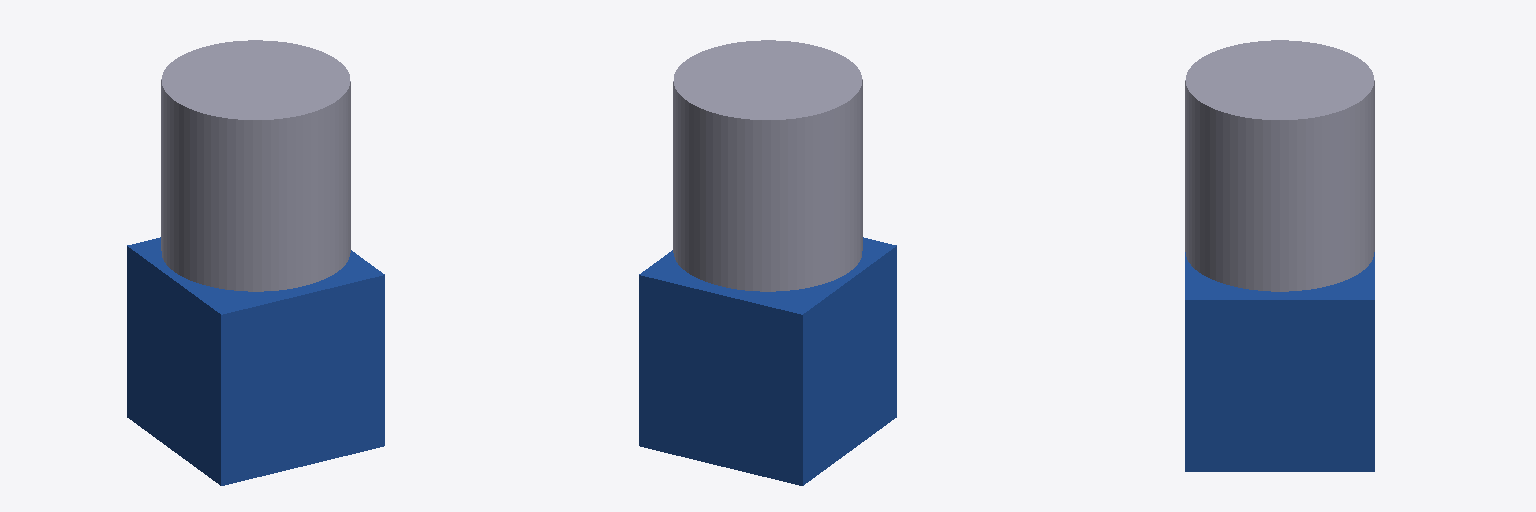
The model's file is testObject.obj.
3 views of the same model, side by side, from view 1: azimuth 30°, elevation 25°; view 2: azimuth 150°, elevation 25°; view 3: azimuth 270°, elevation 25° (orthographic).
Visible parts, largest first — view 1: Body_1, Body_2; view 2: Body_1, Body_2; view 3: Body_2, Body_1.
Boxes of the visible parts, x1,y1,x2,y2 form: Body_1: [127, 237, 384, 485]; Body_2: [161, 40, 350, 291]; Body_1: [639, 237, 896, 485]; Body_2: [673, 40, 862, 291]; Body_2: [1185, 40, 1374, 291]; Body_1: [1185, 252, 1374, 471].
Bounding box in the file's own units: 0.1 × 0.205 × 0.1.